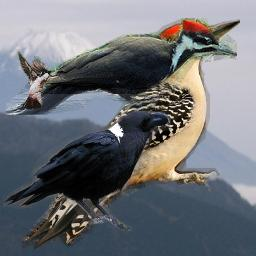Crow: (3, 111, 171, 232)
Swallow: (16, 49, 52, 109)
Woodpecker: (22, 19, 240, 252), (6, 18, 237, 115)
